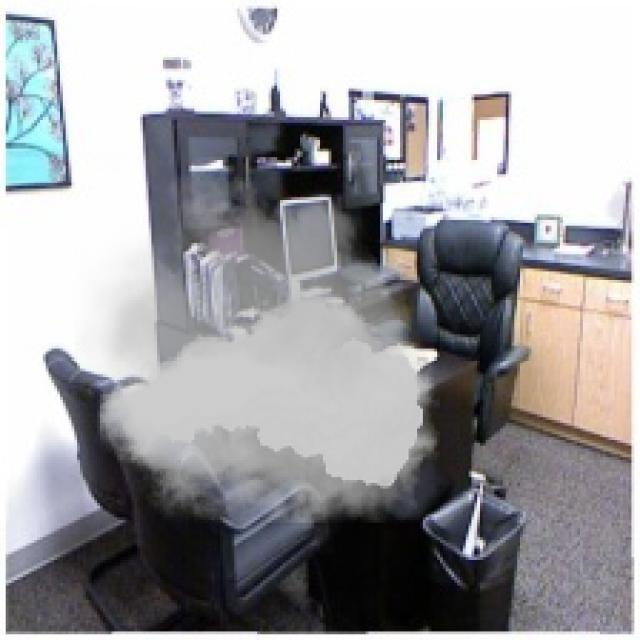smoke: (74, 152, 449, 554)
